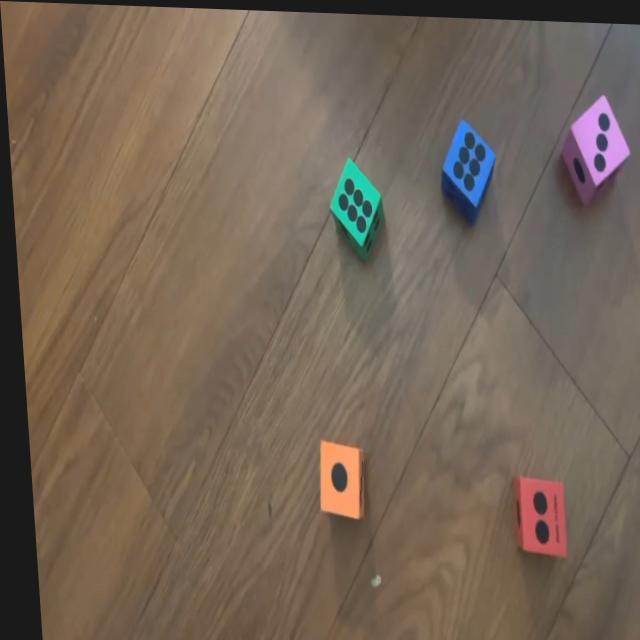cube: (325, 151, 383, 259), (436, 114, 498, 213), (505, 472, 560, 553)
